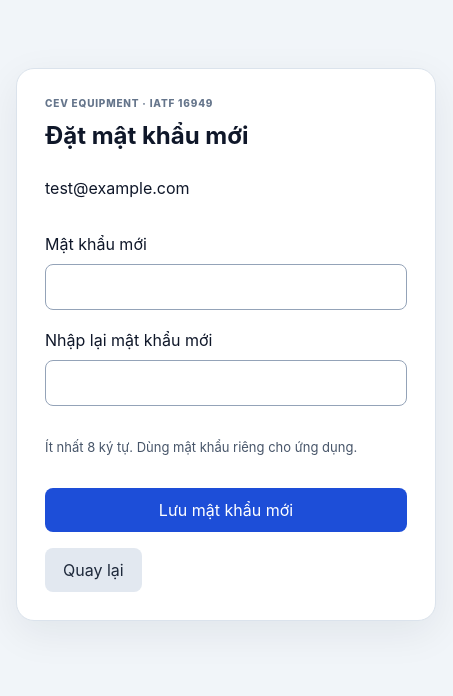
keeps the form on server rejection without claiming success
Type "weak-password" into the password field labelled "Mật khẩu mới".
click(226, 286); type("weak-password")  # box [45, 264, 407, 310]
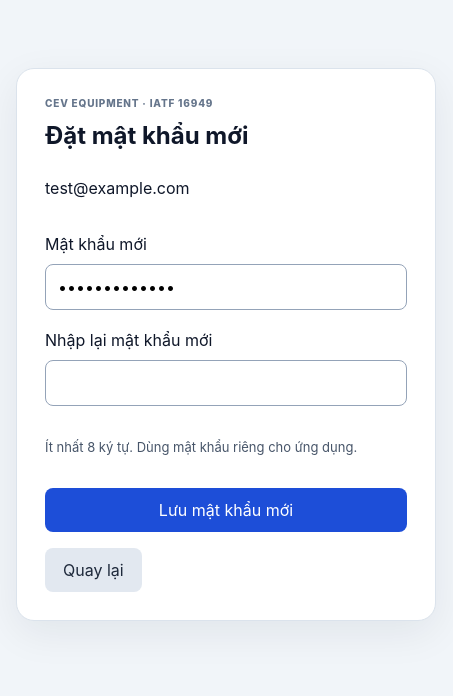
Type "weak-password" into the password field labelled "Nhập lại mật khẩu mới".
click(226, 382); type("weak-password")  # box [45, 360, 407, 406]
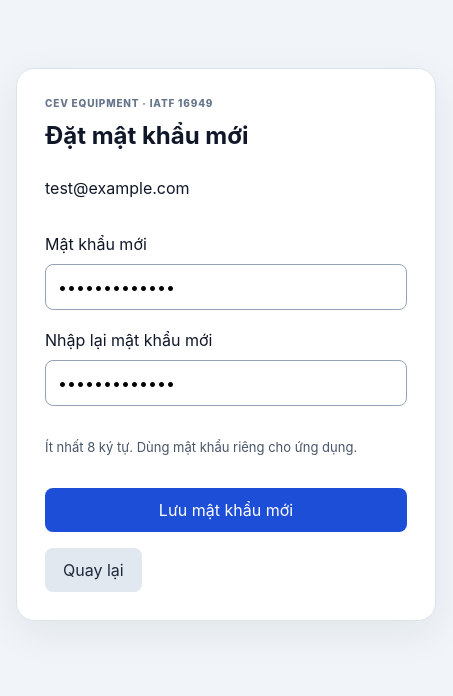
Click the button "Lưu mật khẩu mới".
click(226, 510)  # box [45, 488, 407, 532]
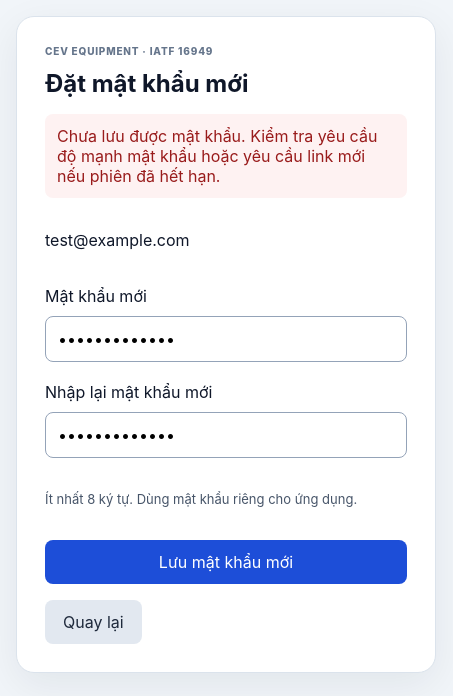
Expected: the message shows "Chưa lưu được", [57, 126, 377, 186]
